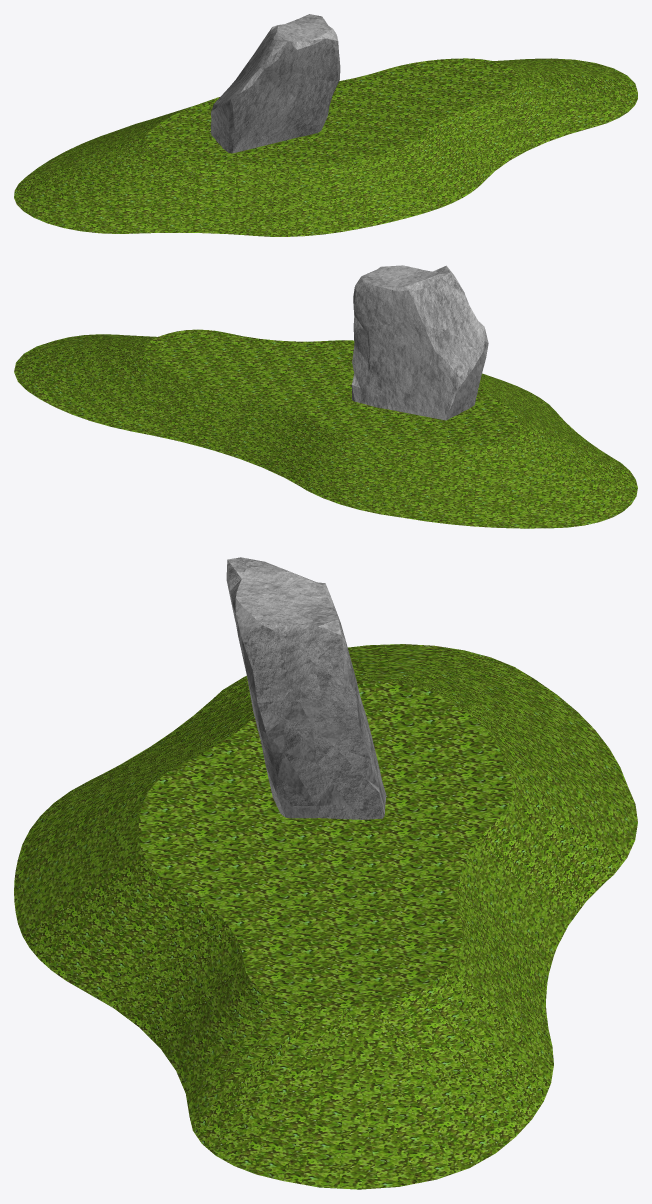
3 views of the same model, one above another, from view 1: azimuth 30°, elevation 25°; view 2: azimuth 150°, elevation 25°; view 3: azimuth 270°, elevation 25° (orthographic). The views are drawn at different scales.
Visible parts, largest first — view 1: 花坛_草坪08; view 2: 花坛_草坪08; view 3: 花坛_草坪08.
Part boxes in pixels (<box>): 花坛_草坪08: <box>14,14,637,236</box>; 花坛_草坪08: <box>14,265,637,528</box>; 花坛_草坪08: <box>14,557,637,1189</box>.
Bounding box in the file's own units: 5.83 × 1.54 × 2.82.
Materials: 2 (2 with a texture image).
